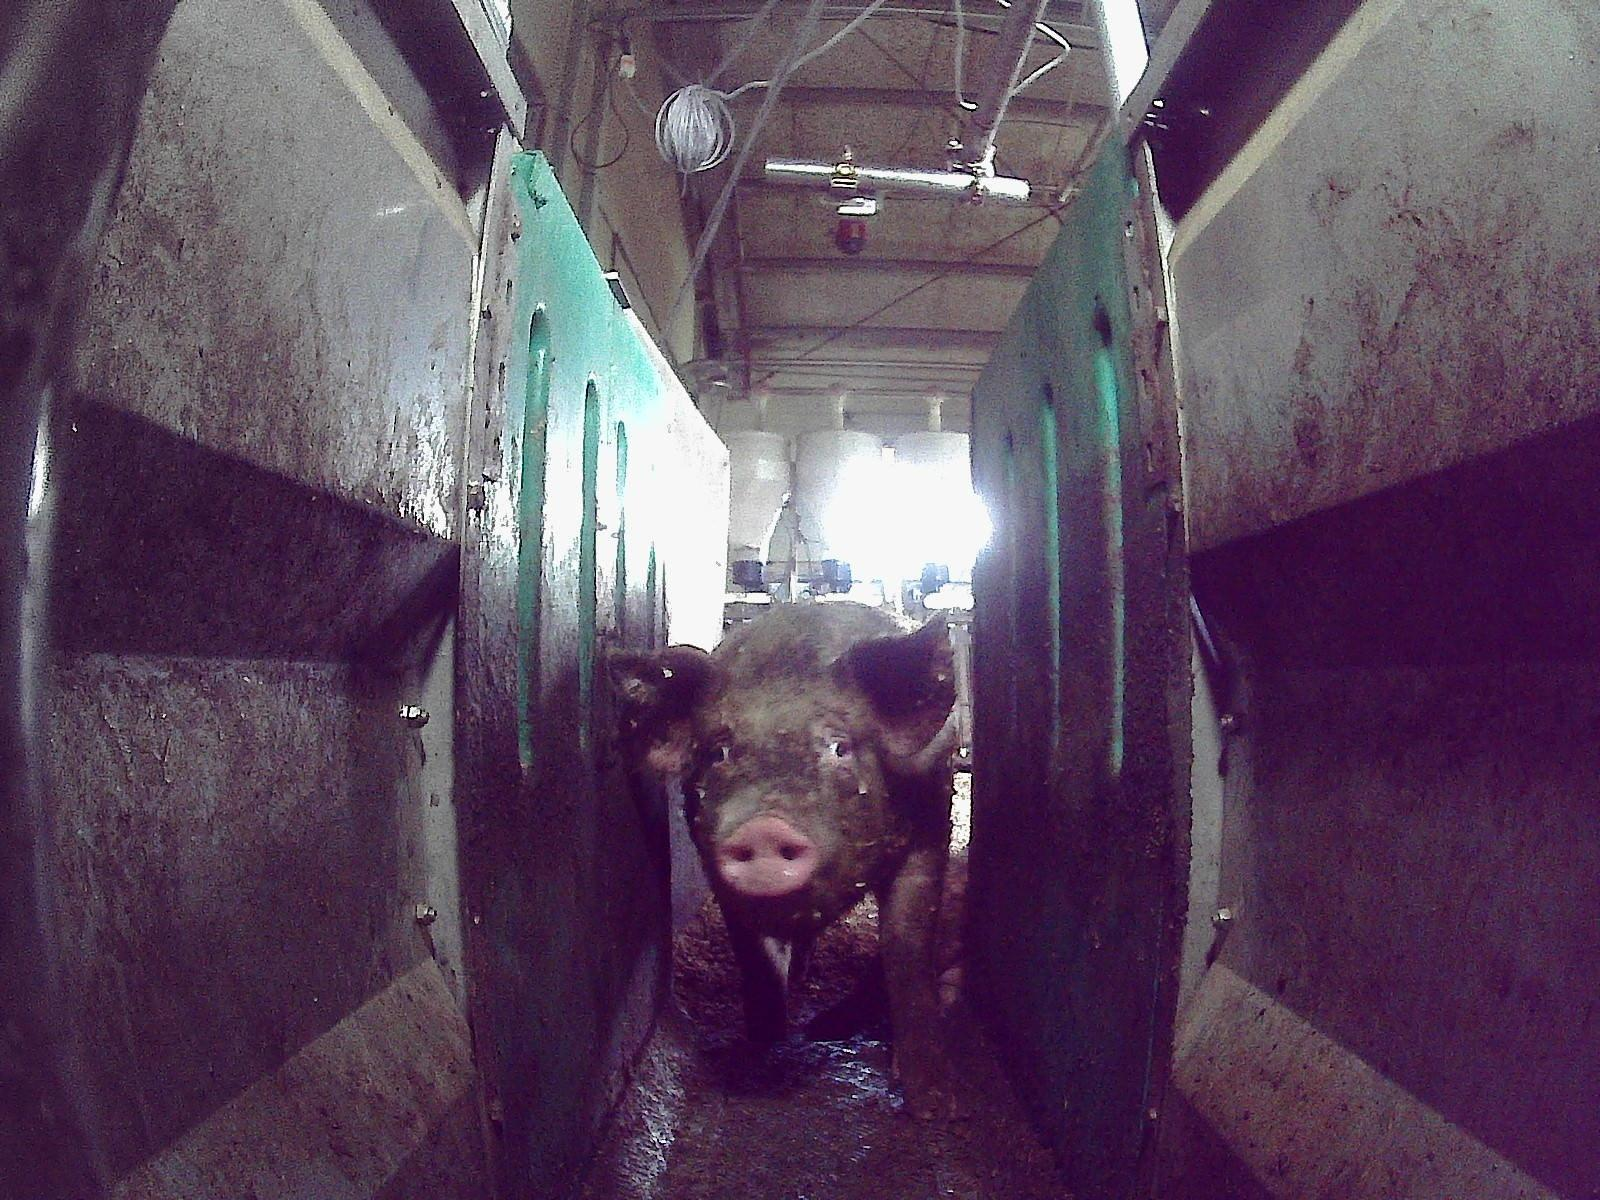Face: (680, 648, 911, 932)
